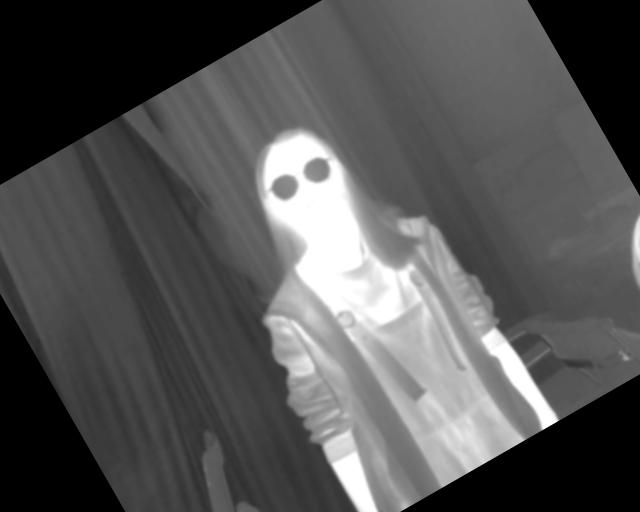face: (237, 114, 363, 246)
